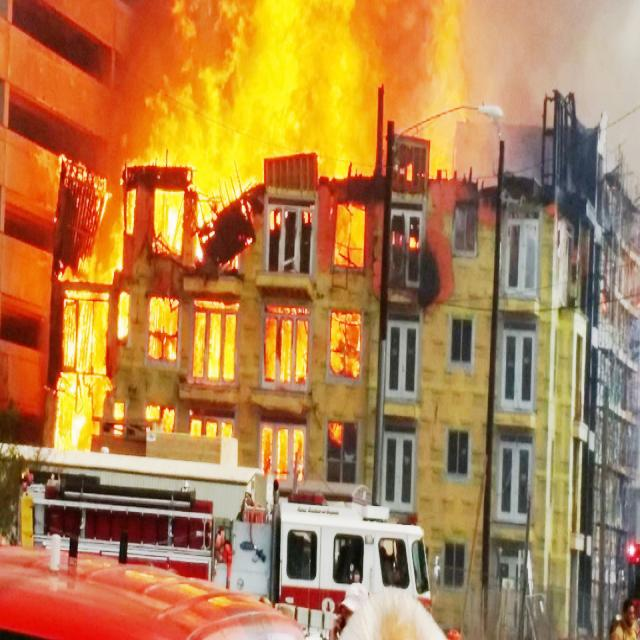api: (53, 291, 136, 456), (195, 301, 237, 382), (152, 186, 187, 256)
asap: (117, 1, 477, 259)
